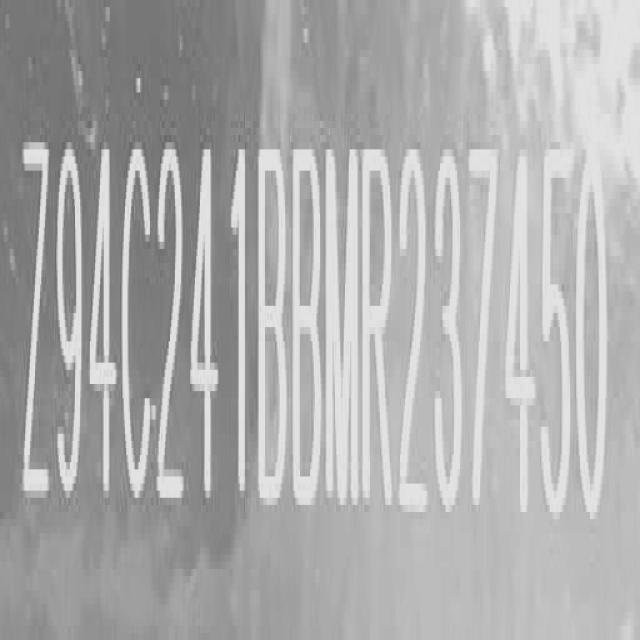0: (576, 156, 609, 532)
1: (228, 141, 250, 516)
2: (397, 146, 430, 524), (156, 139, 188, 516)
3: (434, 146, 466, 524)
4: (192, 141, 224, 518), (507, 142, 538, 527), (89, 136, 119, 513)
5: (541, 152, 574, 532)
7: (469, 143, 501, 527)
9: (56, 138, 84, 512)
B: (256, 141, 290, 516), (294, 141, 326, 518)
C: (123, 139, 155, 516)
M: (327, 142, 363, 520)
R: (362, 143, 394, 522)
Z: (19, 130, 49, 514)
